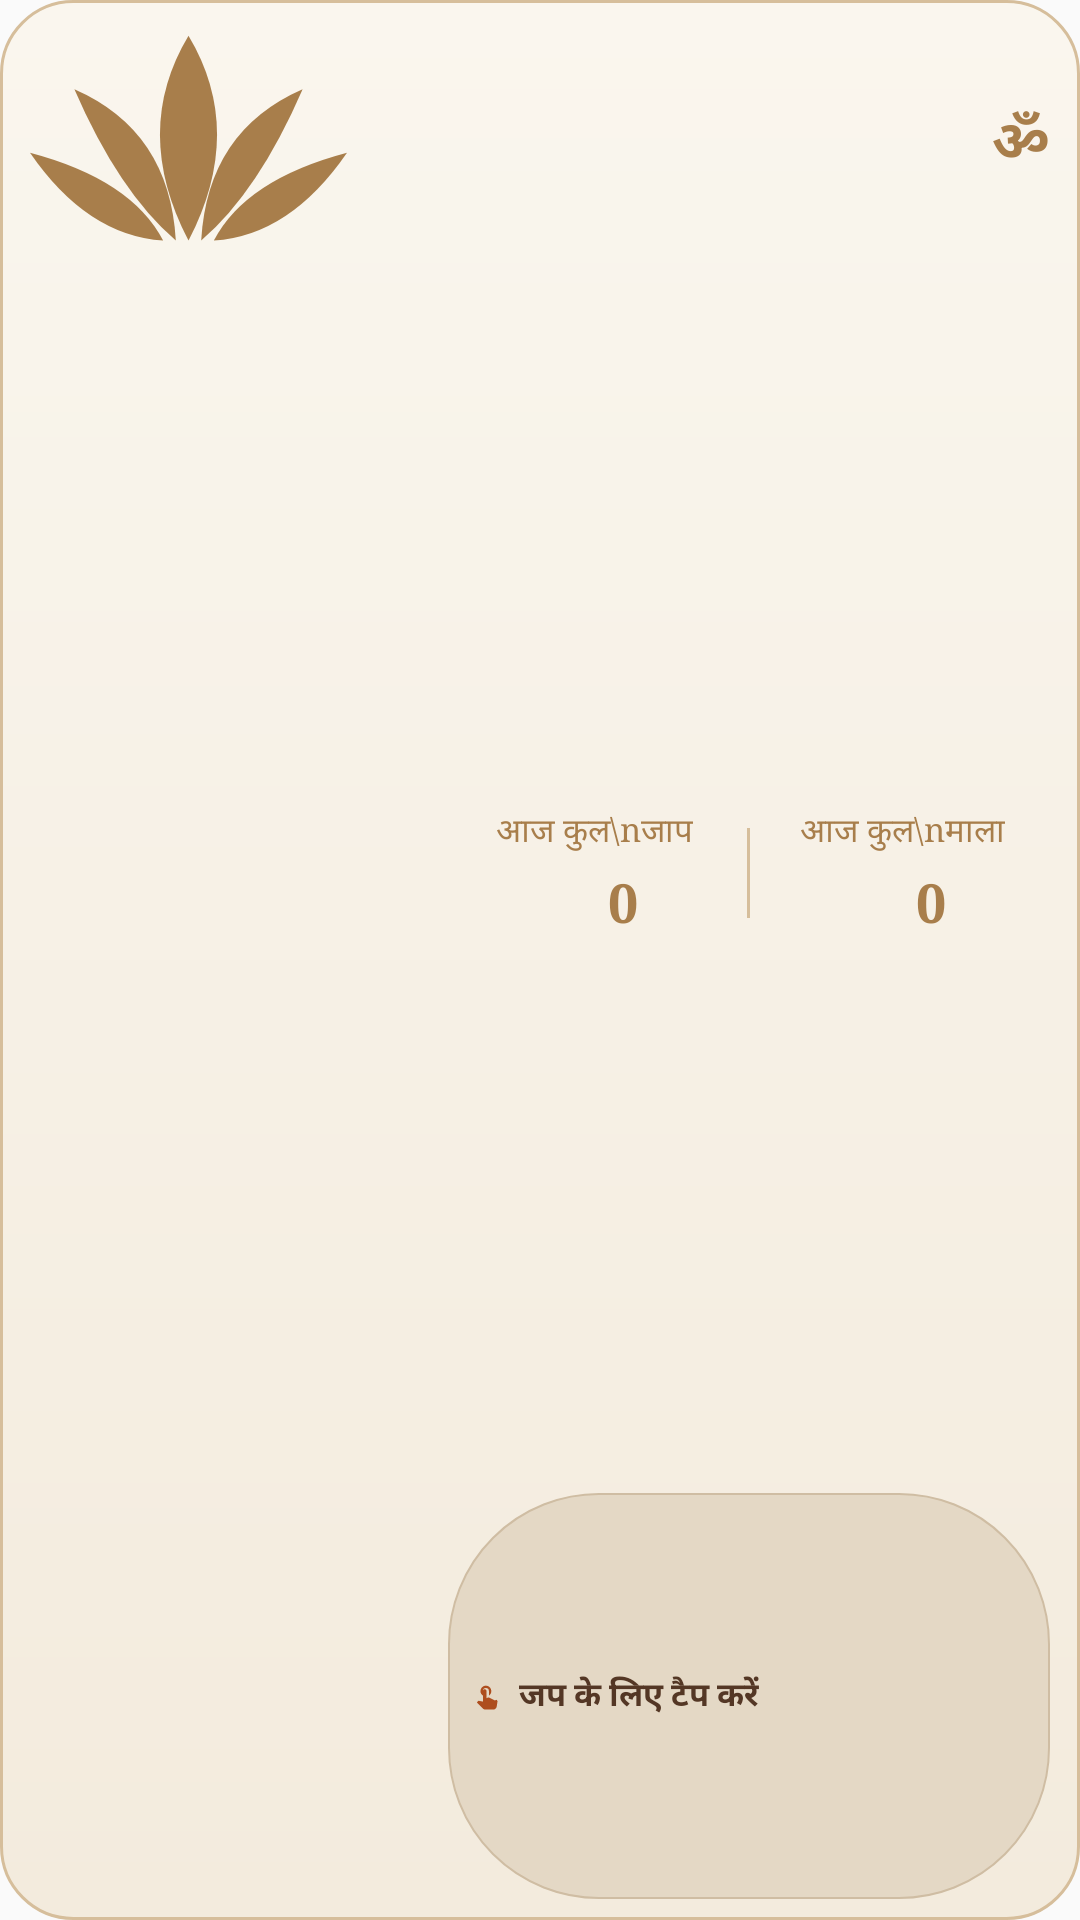

Locate icon controls on the screen. Image size 1080w x 1920h, boxes as rect(x1, y1, x2, y2).
Lotus: rect(30, 36, 347, 241)
